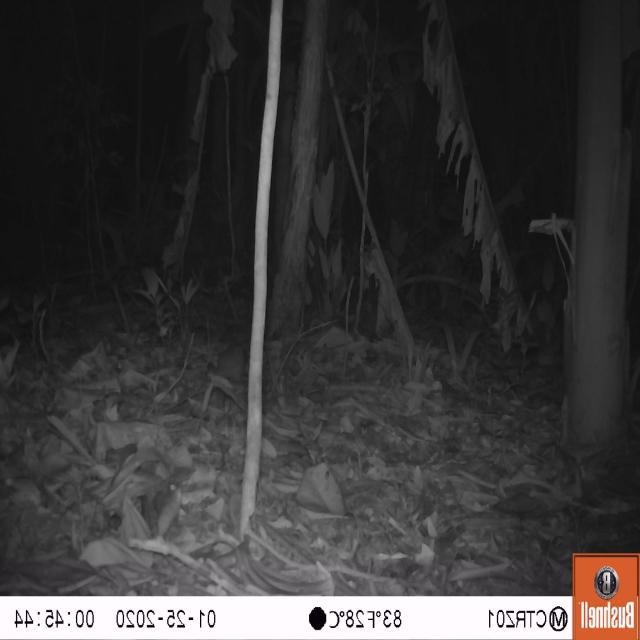Rodent: (189, 326, 268, 409)
